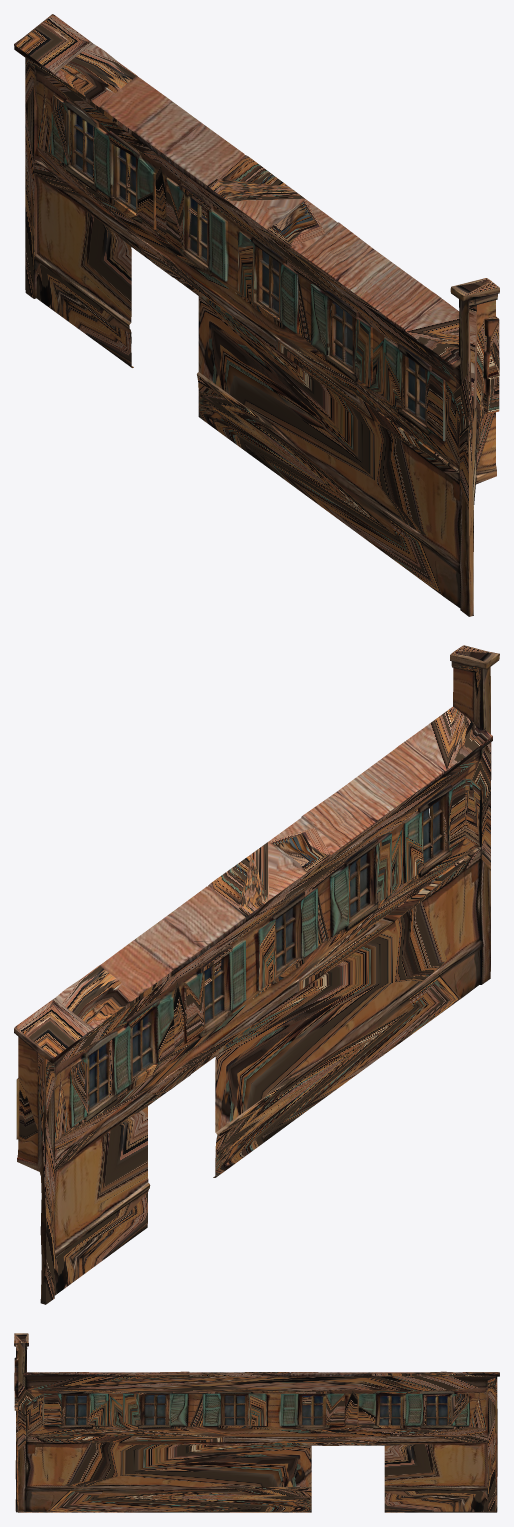
Rendered from saloon_facade_w.glb.
3 views of the same model, one above another, from view 1: azimuth 30°, elevation 25°; view 2: azimuth 150°, elevation 25°; view 3: azimuth 270°, elevation 25° (orthographic). The views are drawn at different scales.
Parts seen in each view (by area): view 1: wl_saloon_long; view 2: wl_saloon_long; view 3: wl_saloon_long.
Boxes of the visible parts, left/top/right/bottom form: wl_saloon_long: left=14, top=14, right=499, bottom=616; wl_saloon_long: left=14, top=645, right=499, bottom=1304; wl_saloon_long: left=14, top=1333, right=499, bottom=1512.
Bounding box in the file's own units: 0.8 × 6.4 × 16.
1 material, 1 textured.
